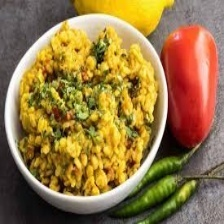sabzi: (13, 19, 162, 202)
